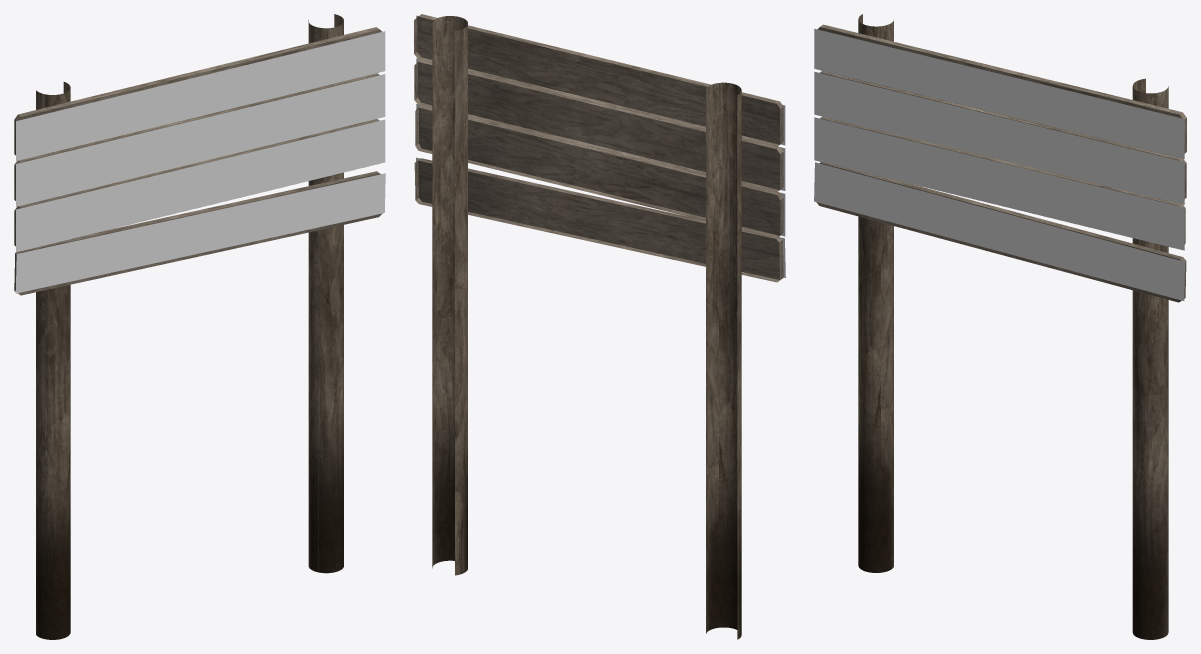
The model's file is MainMenu_Sign_Single.fbx.
3 views of the same model, side by side, from view 1: azimuth 30°, elevation 25°; view 2: azimuth 150°, elevation 25°; view 3: azimuth 330°, elevation 25° (orthographic).
Visible parts, largest first — view 1: Sign_LOD0; view 2: Sign_LOD0; view 3: Sign_LOD0.
Part boxes in pixels (box(x1,y1,x2,y2)): Sign_LOD0: box(14, 14, 385, 639); Sign_LOD0: box(414, 14, 785, 639); Sign_LOD0: box(814, 14, 1186, 639).
Bounding box in the file's own units: 370 × 520 × 32.63.
Materials: 3 (2 with a texture image).
